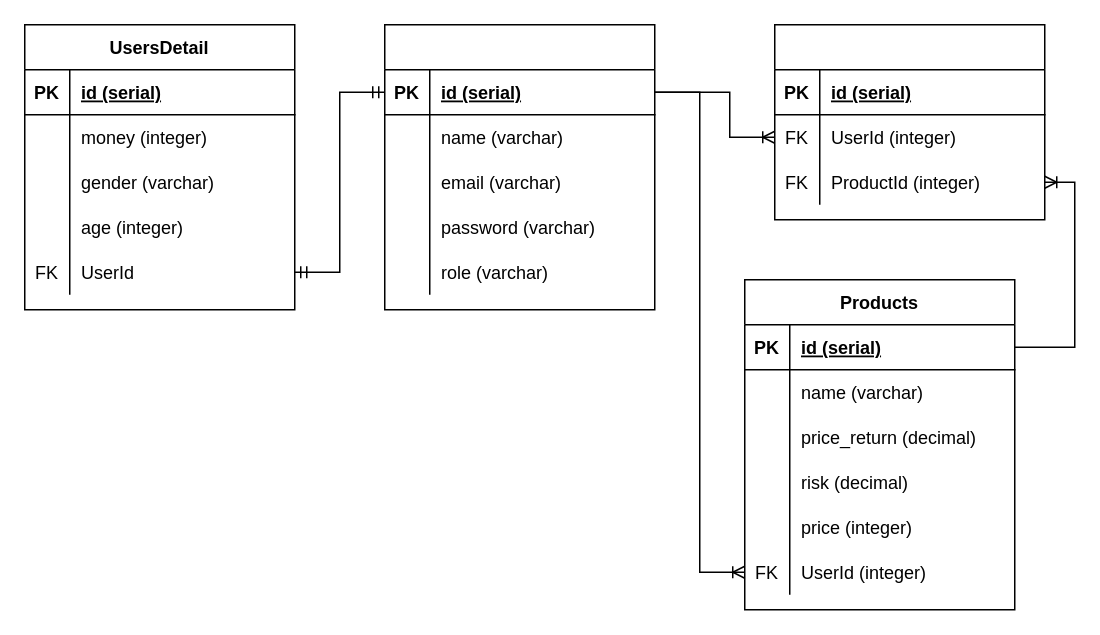
The diagram is 1100 pixels wide and 635 high, and some of its shapes have lost their labels. The box of each missing label's shape, as (x1, y1, x2, y2) in pixels:
Owners: (773, 23, 1045, 220)
Users: (383, 23, 655, 310)
